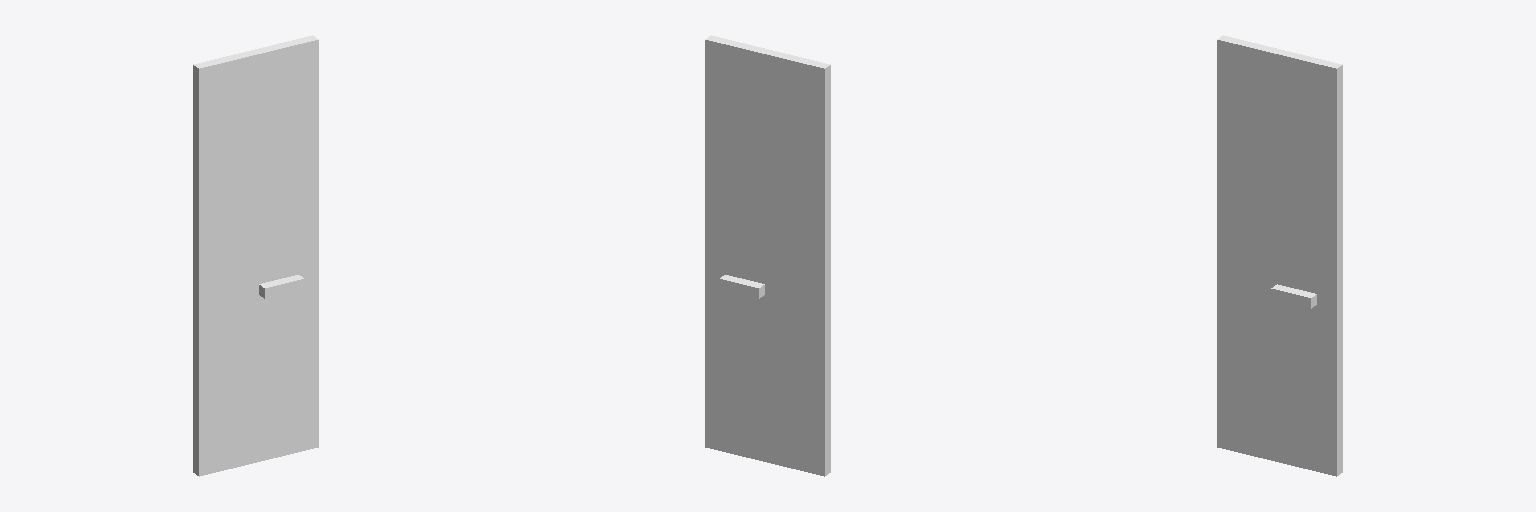
Rendered from WallsSimpleV1DoubleDoorLeft.obj.
3 renders of one model, left to right at view 1: azimuth 30°, elevation 25°; view 2: azimuth 150°, elevation 25°; view 3: azimuth 330°, elevation 25°, orthographic.
Parts seen in each view (by area): view 1: object 1; view 2: object 1; view 3: object 1.
Boxes of the visible parts, x1=… form: object 1: x1=193, y1=35, x2=318, y2=476; object 1: x1=705, y1=35, x2=830, y2=476; object 1: x1=1217, y1=35, x2=1342, y2=476.
Bounding box in the file's own units: 1.2 × 3.9 × 0.3.